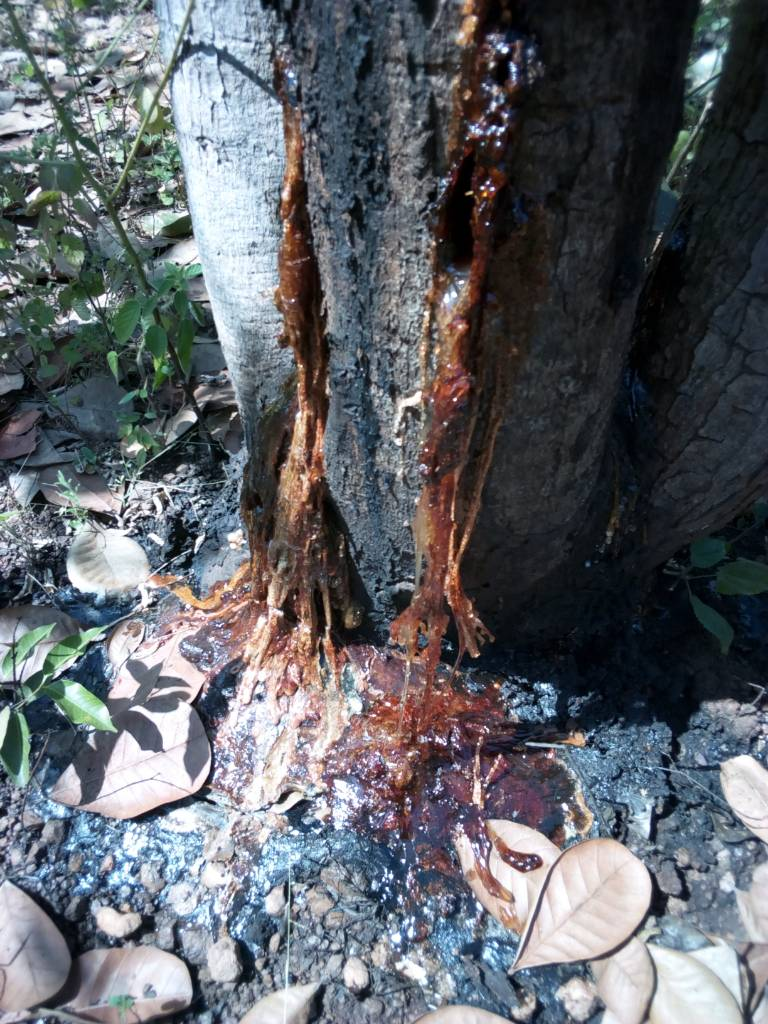Apate terebrans: (202, 119, 593, 708)
